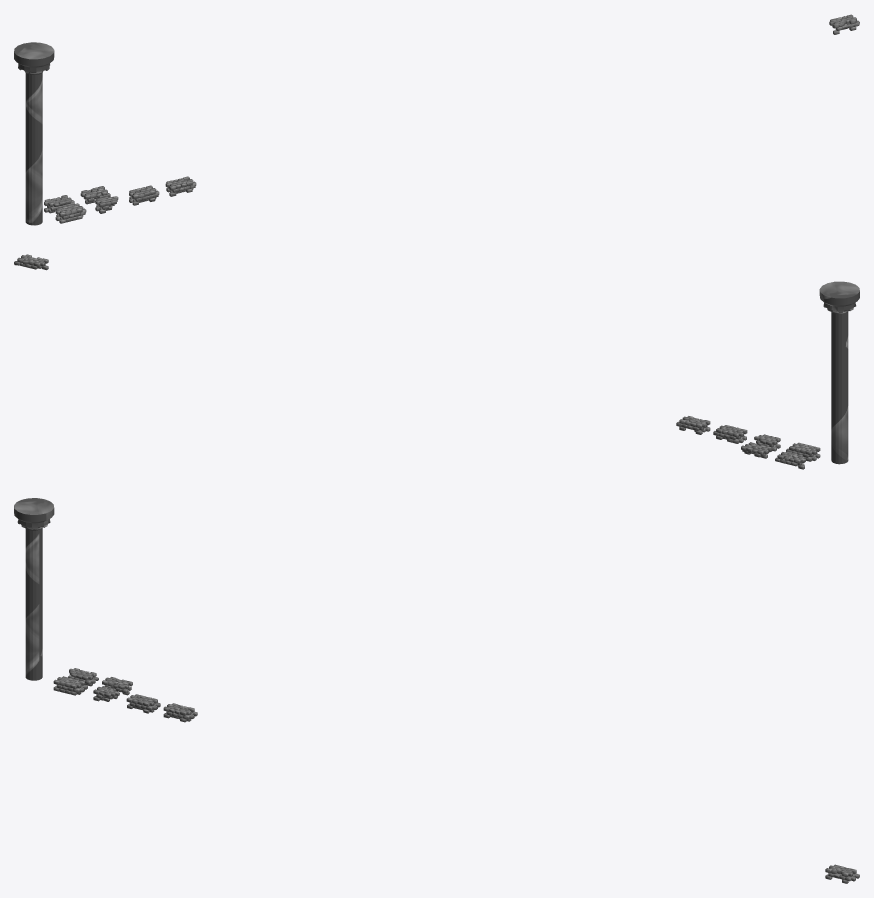
The model's file is StoneBrickEnviroment.fbx.
3 renders of one model, top to bottom at view 1: azimuth 30°, elevation 25°; view 2: azimuth 150°, elevation 25°; view 3: azimuth 330°, elevation 25°, orthographic.
Parts seen in each view (by area): view 1: Column, BrickFloor.000, BrickFloor.002, BrickFloor.003; view 2: Column, BrickFloor.002, BrickFloor.003; view 3: Column.
Boxes of the visible parts, bbox=[...] form: Column: bbox=[14, 42, 54, 225]; BrickFloor.000: bbox=[55, 203, 86, 223]; BrickFloor.002: bbox=[129, 185, 159, 205]; BrickFloor.003: bbox=[165, 176, 196, 196]; Column: bbox=[819, 281, 859, 464]; BrickFloor.002: bbox=[713, 425, 747, 443]; BrickFloor.003: bbox=[676, 416, 710, 434]; Column: bbox=[14, 498, 54, 680].
Size of the model in its own units: 175 by 34.98 by 9.14.
3 materials, 3 textured.
